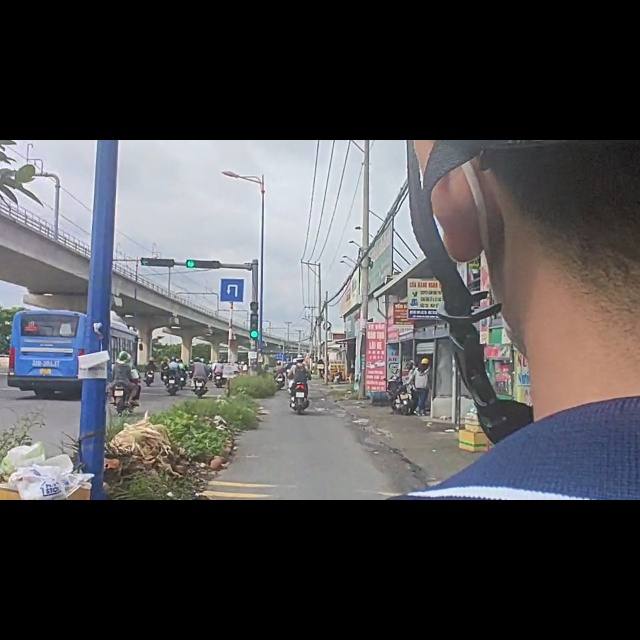bien_chi_dan: (219, 244, 246, 290)
